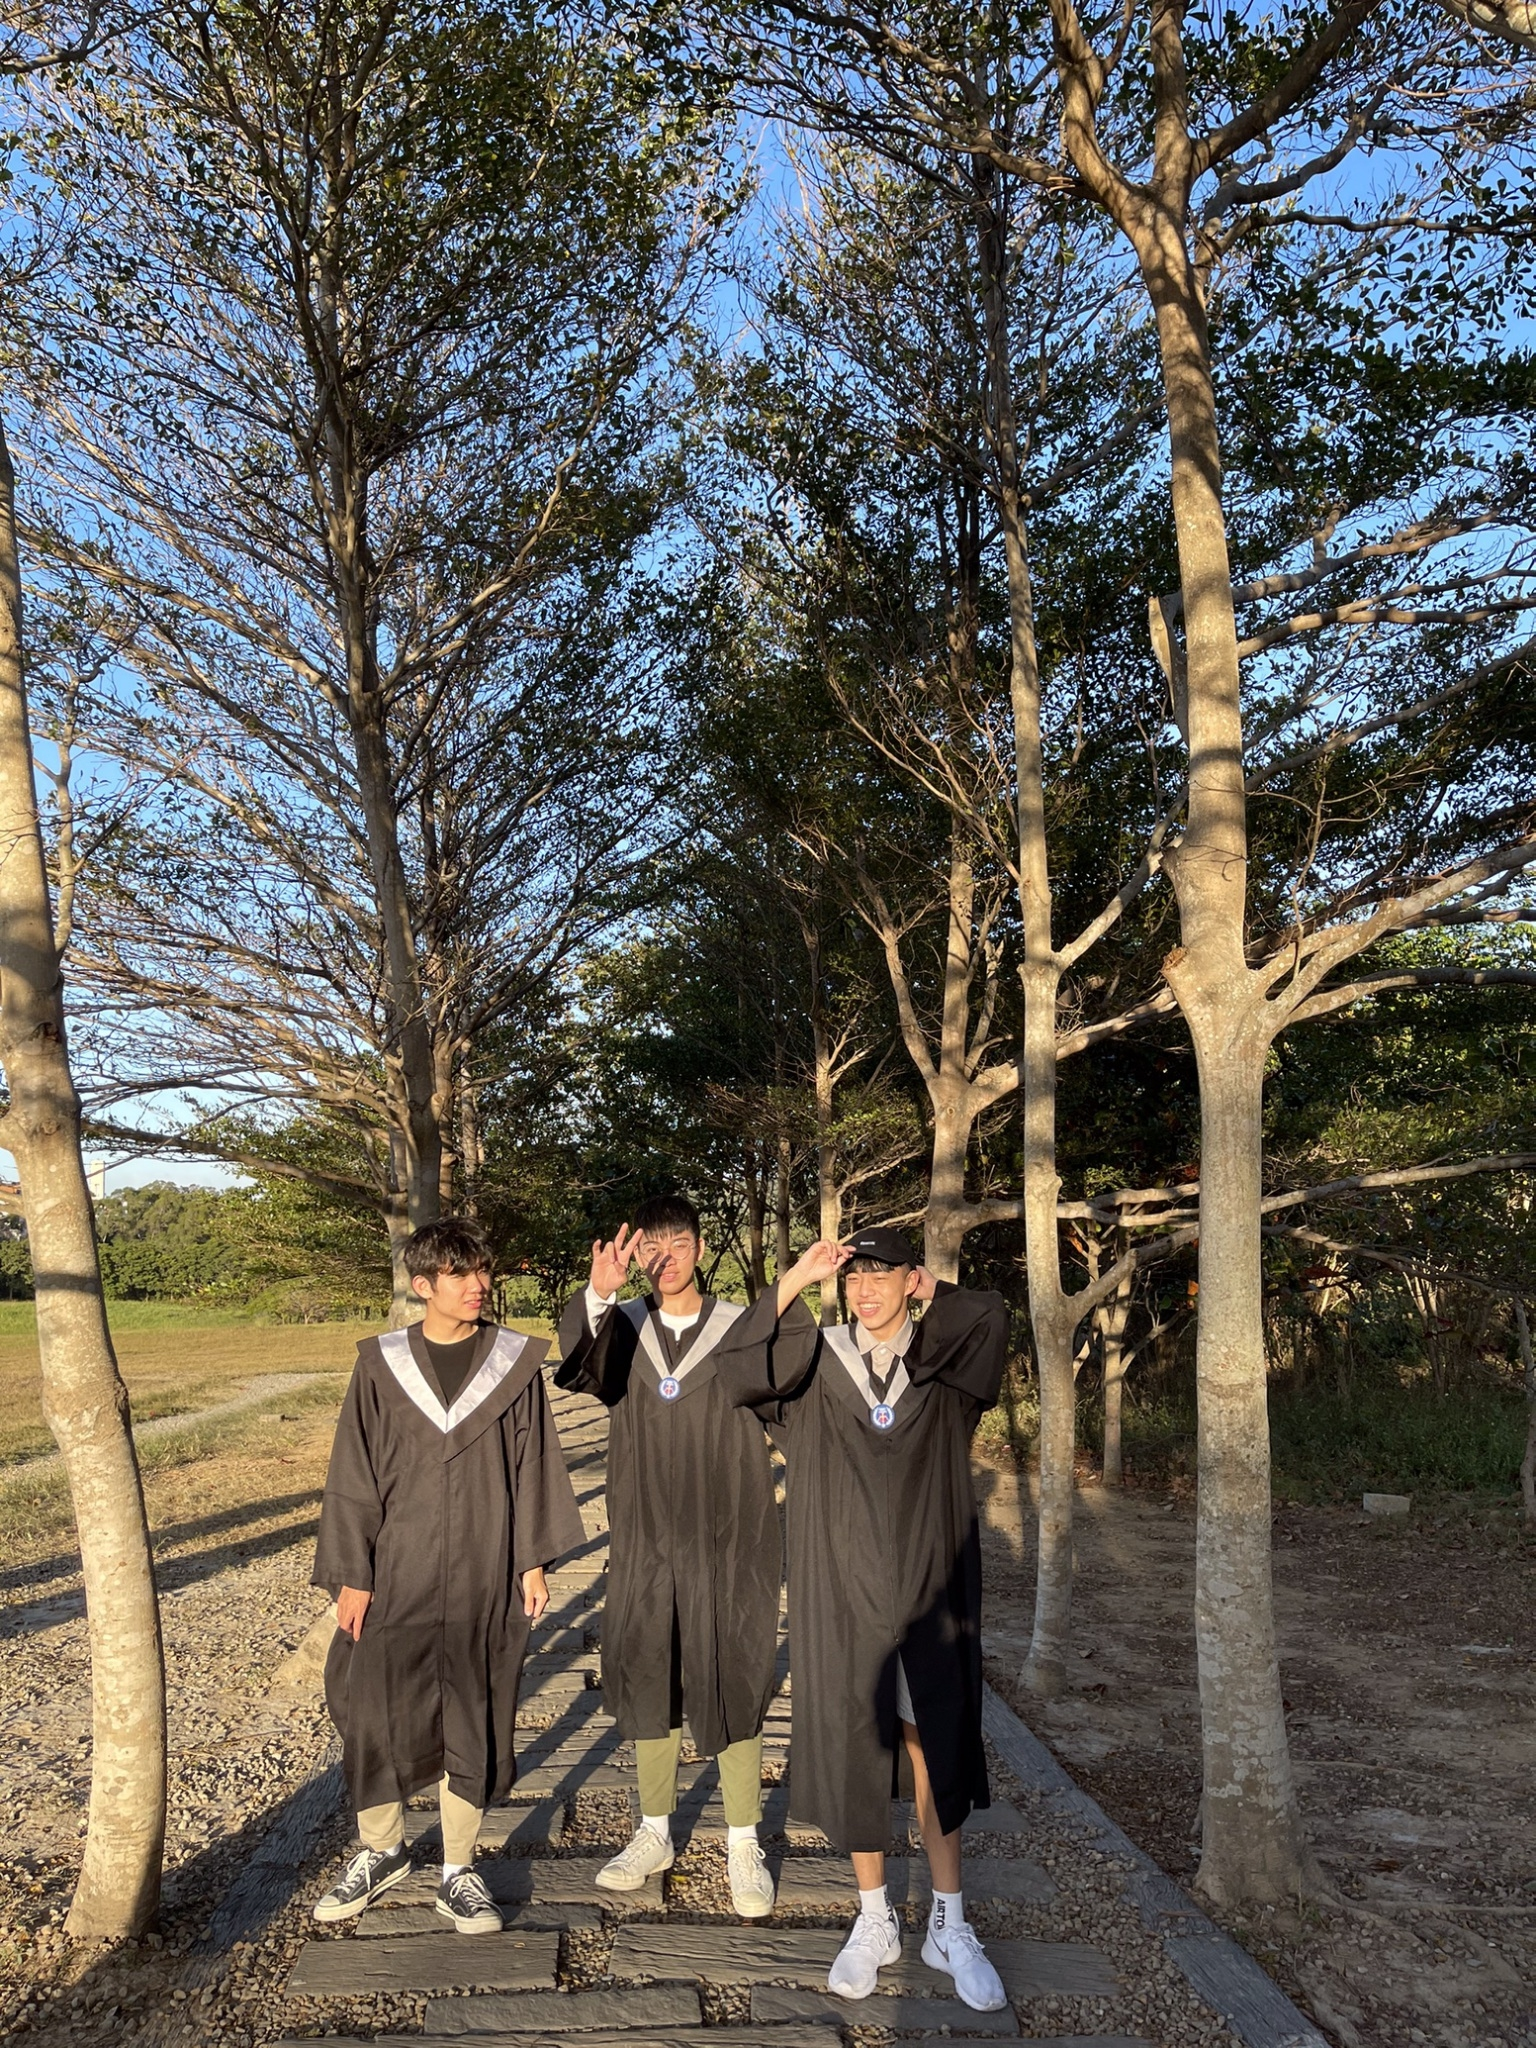people: (789, 1231, 1040, 2018), (589, 1199, 802, 1931), (347, 1218, 550, 1947)
